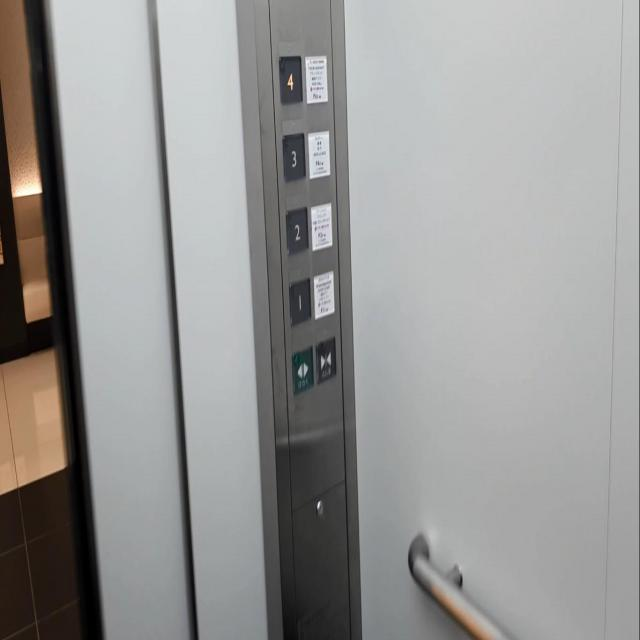1: (288, 275, 312, 327)
2: (285, 206, 308, 254)
3: (282, 132, 306, 181)
4: (278, 55, 302, 103)
close: (314, 335, 337, 384)
open: (291, 344, 314, 394)
